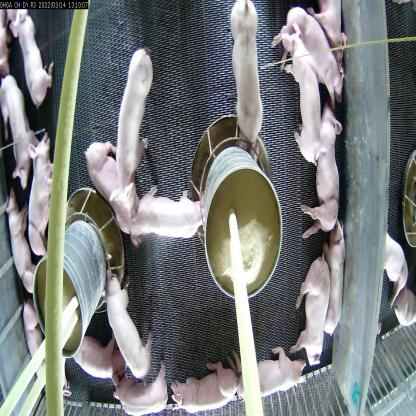Pig: (225, 0, 272, 151), (278, 0, 347, 98), (301, 111, 346, 243), (282, 28, 320, 174), (98, 276, 152, 376), (26, 140, 71, 256), (126, 186, 208, 248), (87, 146, 138, 242), (116, 57, 156, 174), (292, 252, 326, 382), (0, 64, 36, 184), (8, 0, 50, 101), (64, 319, 124, 384), (246, 345, 303, 407), (323, 214, 350, 338), (2, 189, 35, 278), (23, 303, 54, 391), (116, 372, 169, 414), (172, 369, 232, 396)
